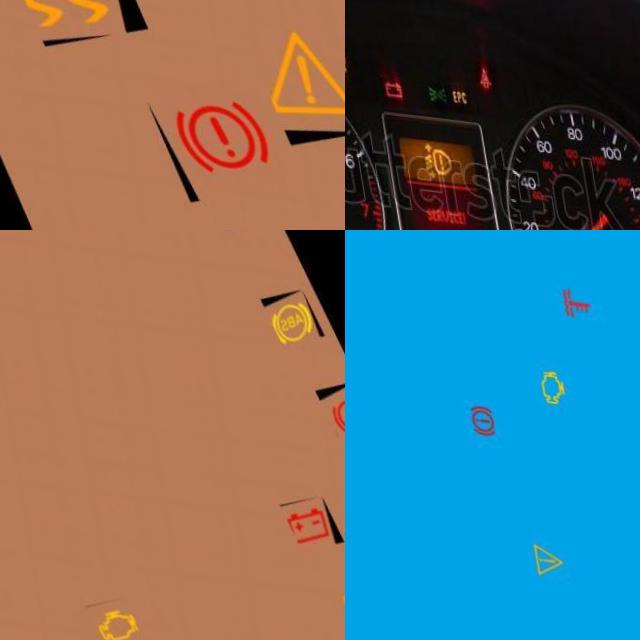High Engine Coolant Temperature: (548, 274, 591, 316)
